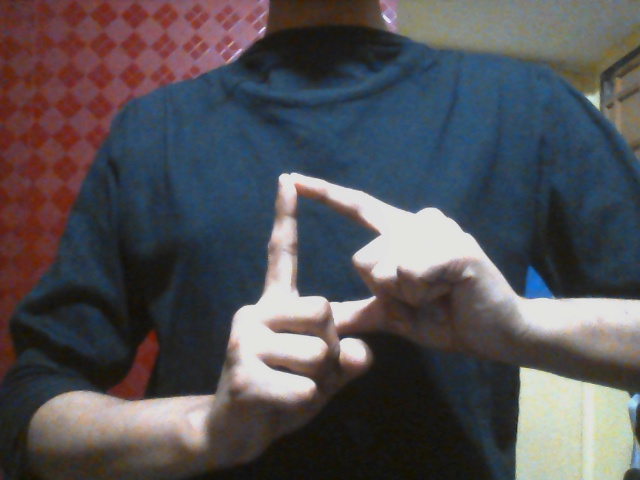D: (211, 170, 513, 468)
